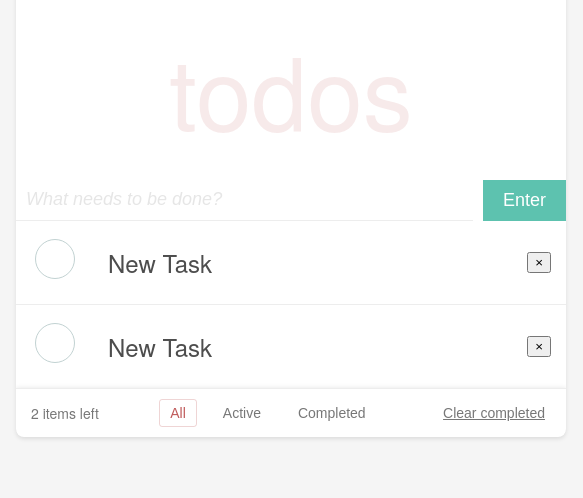
Test: Todo App › should edit a todo
The width and height of the screenshot is (583, 498).
Type "Task to Edit" into the field with placeholder "What needs to be done?" at (244, 200), box [16, 179, 473, 221]
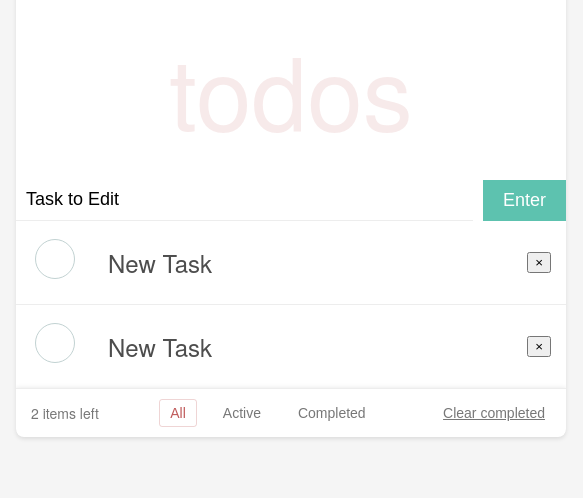
Press Enter in the field with placeholder "What needs to be done?", box [16, 179, 473, 221]
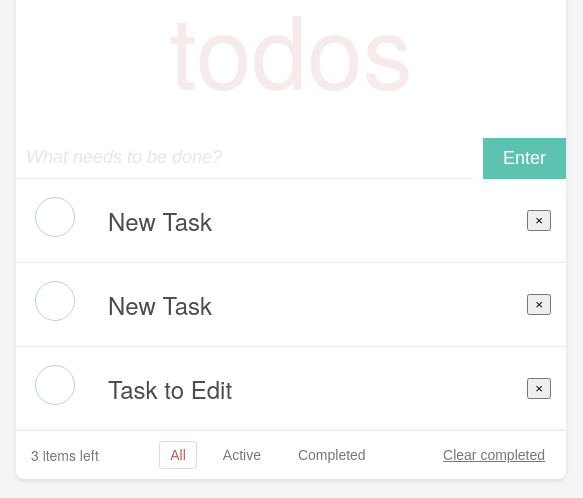
Double-click the text "Task to Edit" at (170, 388), box [108, 371, 232, 406]
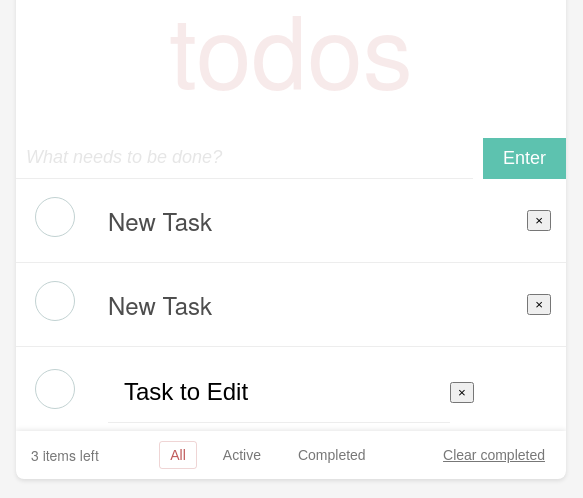
Replace the text in the field showing "Task to Edit" with "Updated Task" at (279, 392), box [108, 362, 450, 423]
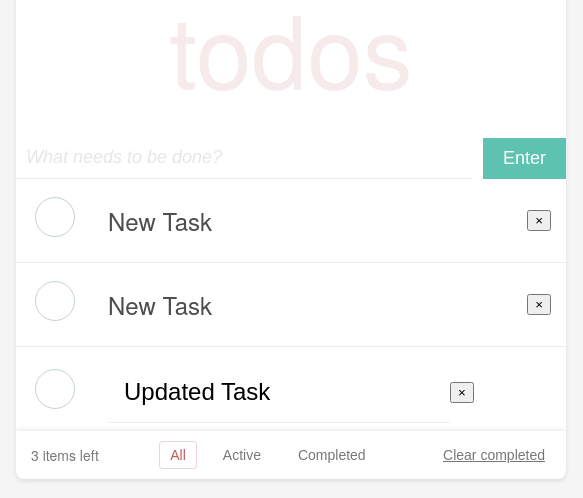
Leave the field showing "Task to Edit", box [108, 362, 450, 423]
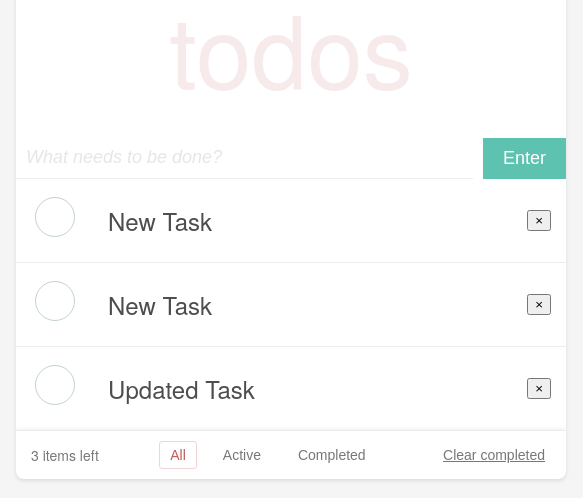
Check: the text "Task to Edit" is not shown
Check: the text "Updated Task" is shown, box [108, 371, 255, 406]
